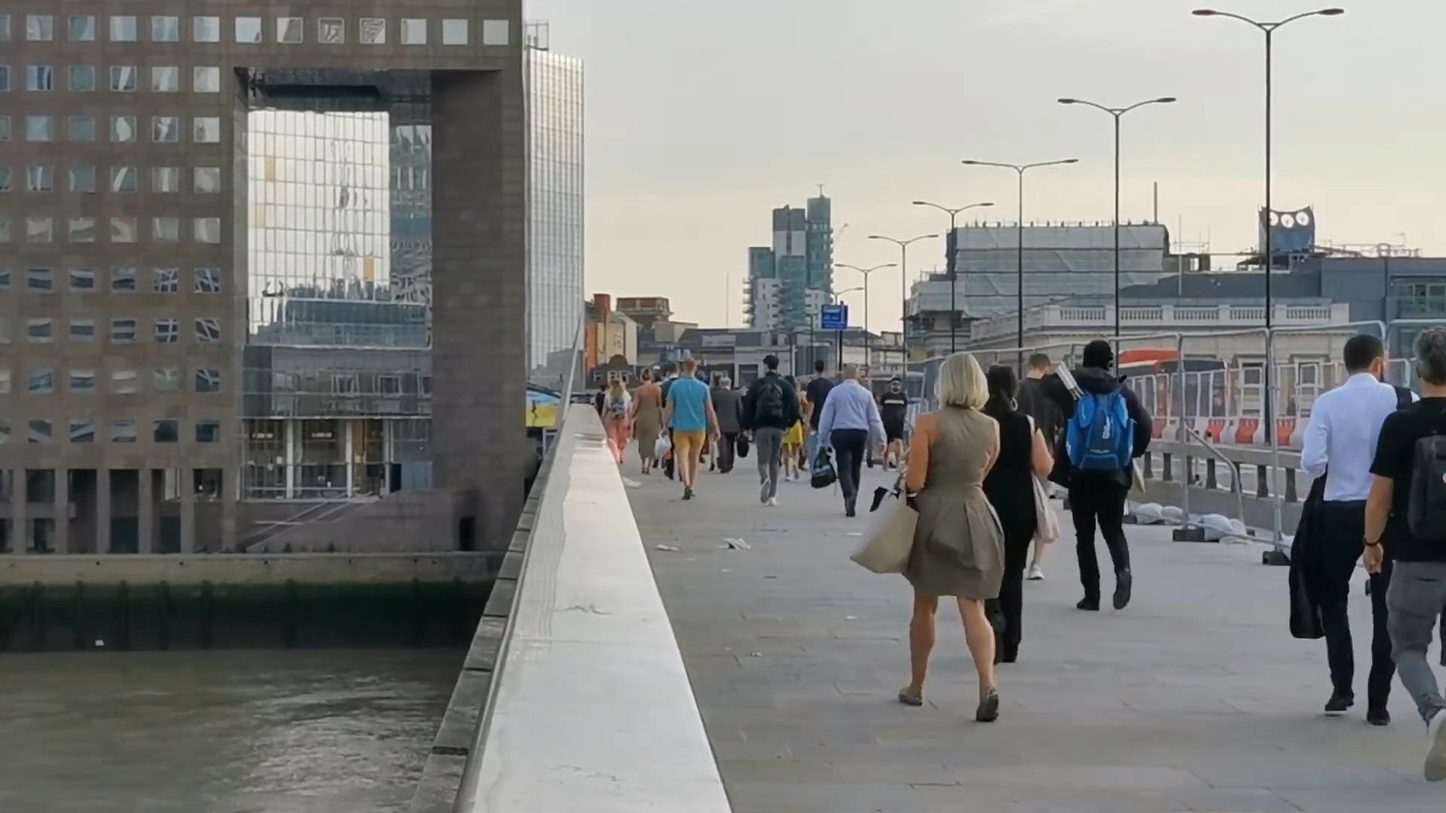no-helmet: (933, 353, 990, 413), (1413, 327, 1446, 398), (1344, 336, 1386, 382), (987, 363, 1018, 416), (1083, 339, 1115, 374), (1026, 354, 1051, 379), (762, 355, 779, 373), (683, 358, 696, 377)
